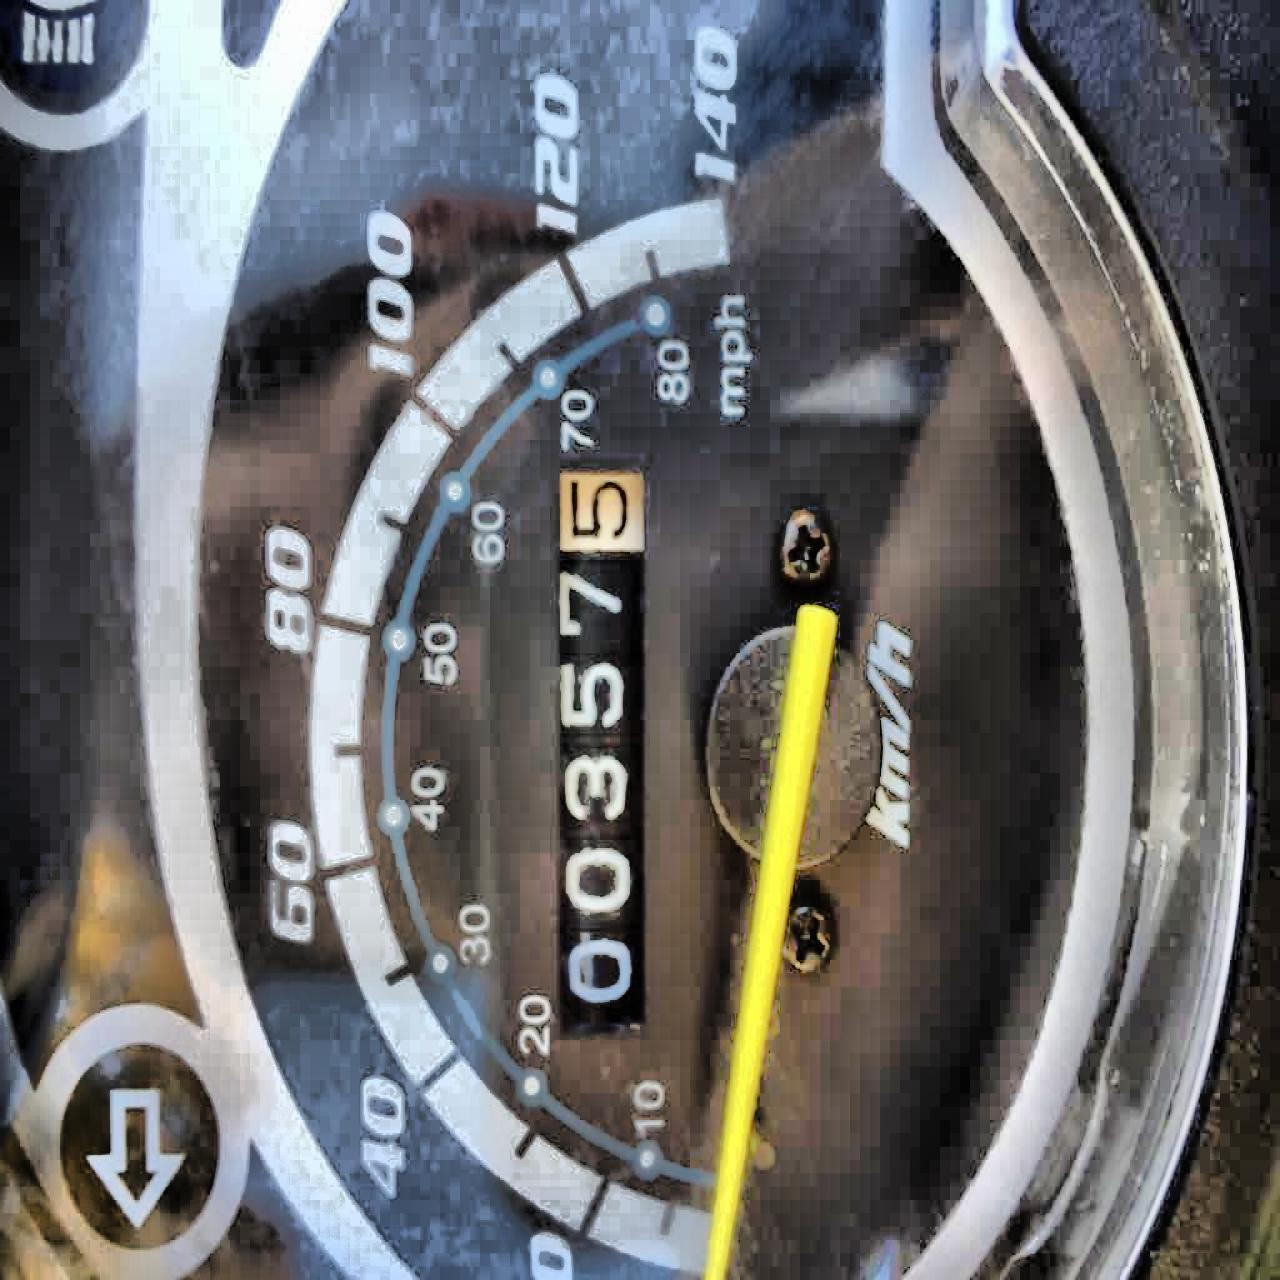0: (558, 842, 633, 915), (563, 932, 632, 1006)
3: (558, 748, 632, 819)
5: (554, 656, 626, 727), (565, 475, 631, 542)
7: (551, 564, 627, 640)
odometer: (547, 451, 654, 1036)
